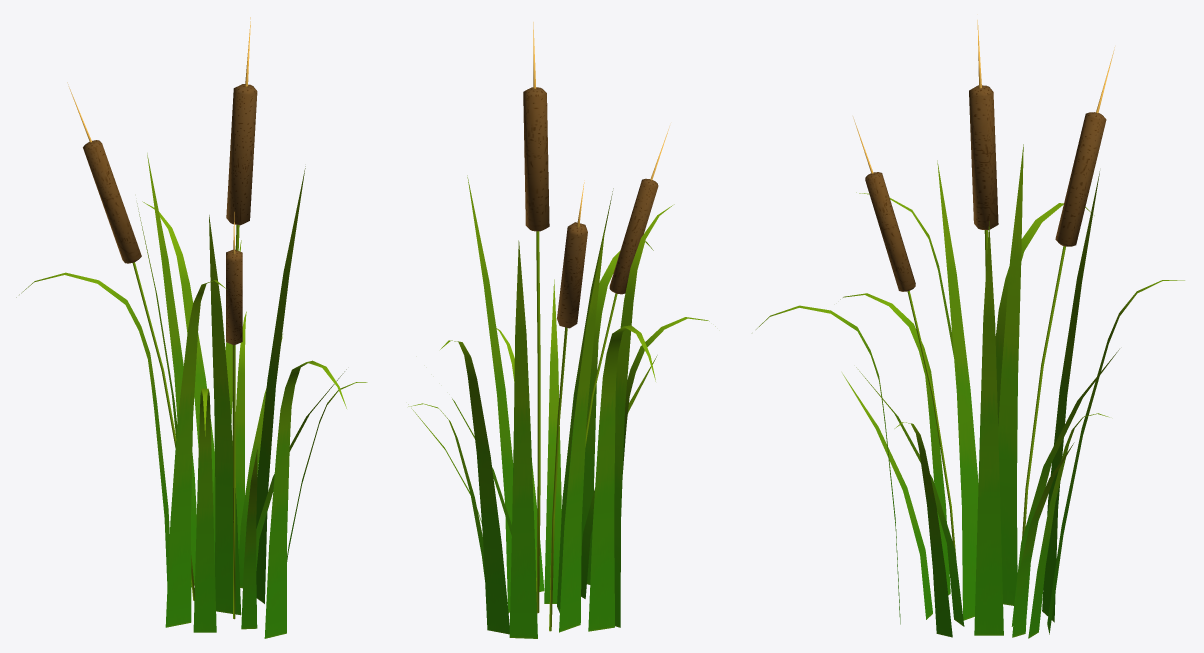
The model's file is Cattail.fbx.
3 views of the same model, side by side, from view 1: azimuth 30°, elevation 25°; view 2: azimuth 150°, elevation 25°; view 3: azimuth 270°, elevation 25° (orthographic). The views are drawn at different scales.
Parts seen in each view (by area): view 1: 平面.002, 平面.008, 平面.013, 平面.014, 平面, 柱体.001, 柱体.005, 平面.003, 平面.004, 平面.010, 平面.009, 平面.012 (+7 smaller); view 2: 平面.003, 平面.012, 平面.001, 平面.009, 平面.008, 柱体.001, 平面.005, 平面, 平面.013, 柱体.005, 柱体.003, 柱体 (+7 smaller); view 3: 平面, 平面.001, 平面.002, 柱体.001, 平面.003, 柱体.005, 平面.011, 柱体.003, 平面.014, 平面.006, 平面.010, 平面.004 (+7 smaller).
Boxes of the visible parts, x1,y1,x2,y2 form: 平面.002: [209, 215, 241, 615]; 平面.008: [165, 280, 225, 627]; 平面.013: [264, 360, 346, 638]; 平面.014: [193, 388, 216, 632]; 平面: [256, 166, 305, 603]; 柱体.001: [226, 84, 257, 225]; 柱体.005: [83, 140, 141, 263]; 平面.003: [147, 153, 196, 587]; 平面.004: [241, 449, 257, 629]; 平面.010: [235, 311, 246, 553]; 平面.009: [142, 201, 214, 492]; 平面.012: [16, 272, 169, 586]; 平面.003: [509, 240, 537, 638]; 平面.012: [588, 325, 655, 631]; 平面.001: [559, 224, 605, 632]; 平面.009: [440, 340, 509, 634]; 平面.008: [614, 204, 674, 627]; 柱体.001: [523, 87, 549, 231]; 平面.005: [544, 279, 561, 603]; 平面: [467, 175, 513, 612]; 平面.013: [581, 241, 653, 584]; 柱体.005: [557, 222, 587, 328]; 柱体.003: [609, 178, 658, 294]; 柱体: [533, 22, 540, 613]; 平面: [974, 221, 1003, 635]; 平面.001: [998, 144, 1023, 605]; 平面.002: [937, 160, 978, 620]; 柱体.001: [969, 85, 998, 229]; 平面.003: [1042, 171, 1099, 622]; 柱体.005: [1055, 112, 1106, 246]; 平面.011: [894, 422, 952, 637]; 柱体.003: [865, 172, 915, 291]; 平面.014: [840, 293, 950, 595]; 平面.006: [1012, 442, 1074, 637]; 平面.010: [1028, 413, 1109, 638]; 平面.004: [842, 373, 932, 619].
Bounding box in the file's own units: 2964 × 2132 × 4591.
3 materials, 3 textured.
